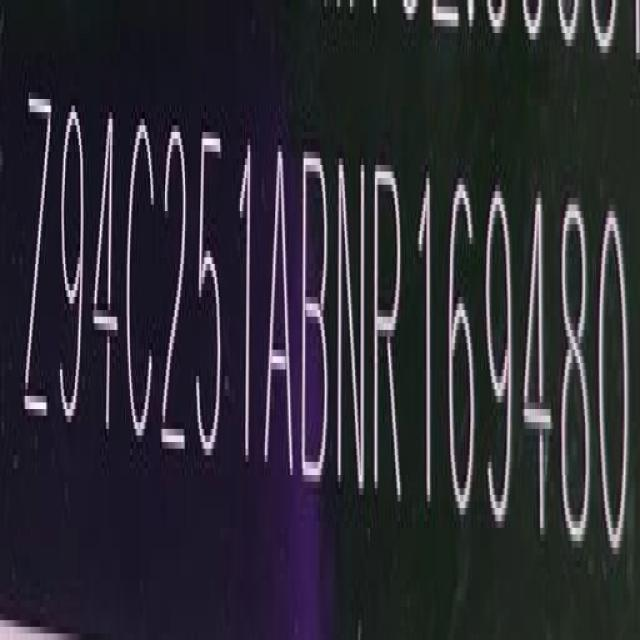0: (594, 198, 630, 552)
1: (418, 174, 438, 520), (237, 127, 254, 474)
2: (161, 108, 189, 469)
4: (518, 185, 554, 538), (90, 88, 120, 450)
5: (194, 115, 225, 464)
6: (444, 149, 478, 530)
8: (558, 193, 592, 552)
9: (483, 176, 516, 552), (57, 78, 86, 440)
A: (262, 144, 295, 482)
B: (300, 144, 332, 486)
C: (123, 108, 158, 460)
N: (333, 142, 369, 496)
R: (372, 156, 403, 511)
Z: (20, 76, 55, 435)
